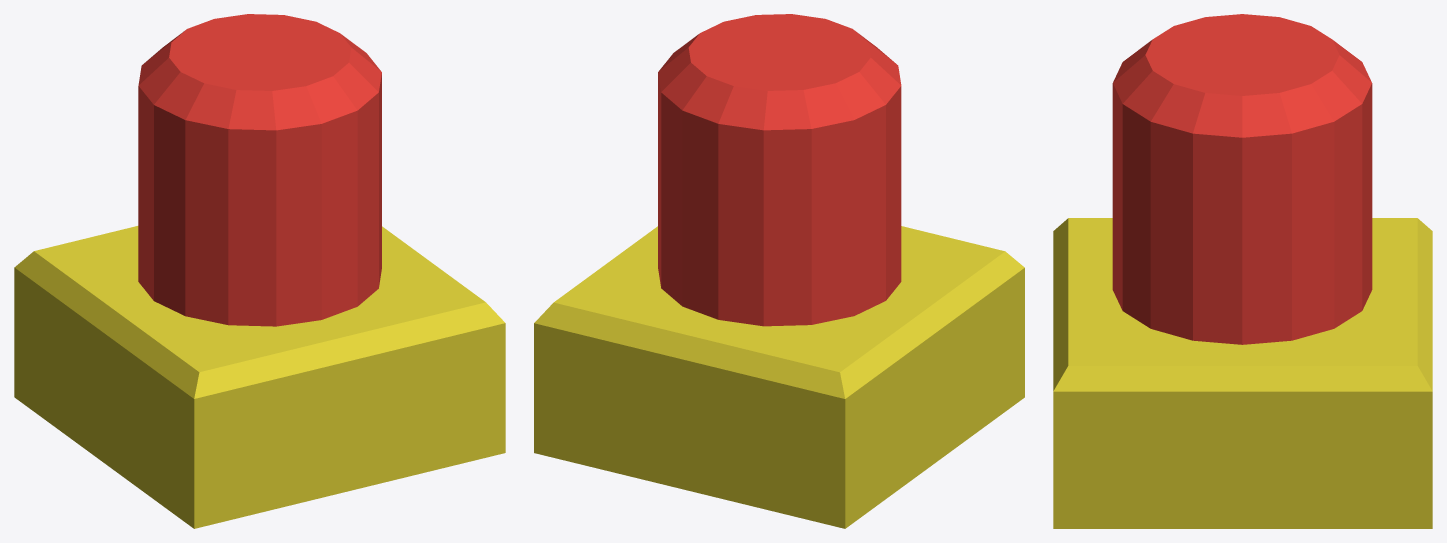
Rendered from NotAus.fbx.
3 views of the same model, side by side, from view 1: azimuth 30°, elevation 25°; view 2: azimuth 150°, elevation 25°; view 3: azimuth 270°, elevation 25° (orthographic). The views are drawn at different scales.
Visible parts, largest first — view 1: Cube; view 2: Cube; view 3: Cube.
Part boxes in pixels (x1=…): Cube: x1=14, y1=14, x2=505, y2=528; Cube: x1=534, y1=14, x2=1024, y2=528; Cube: x1=1053, y1=14, x2=1432, y2=528.
Size of the model in its own units: 5.85 by 6.7 by 5.85.
